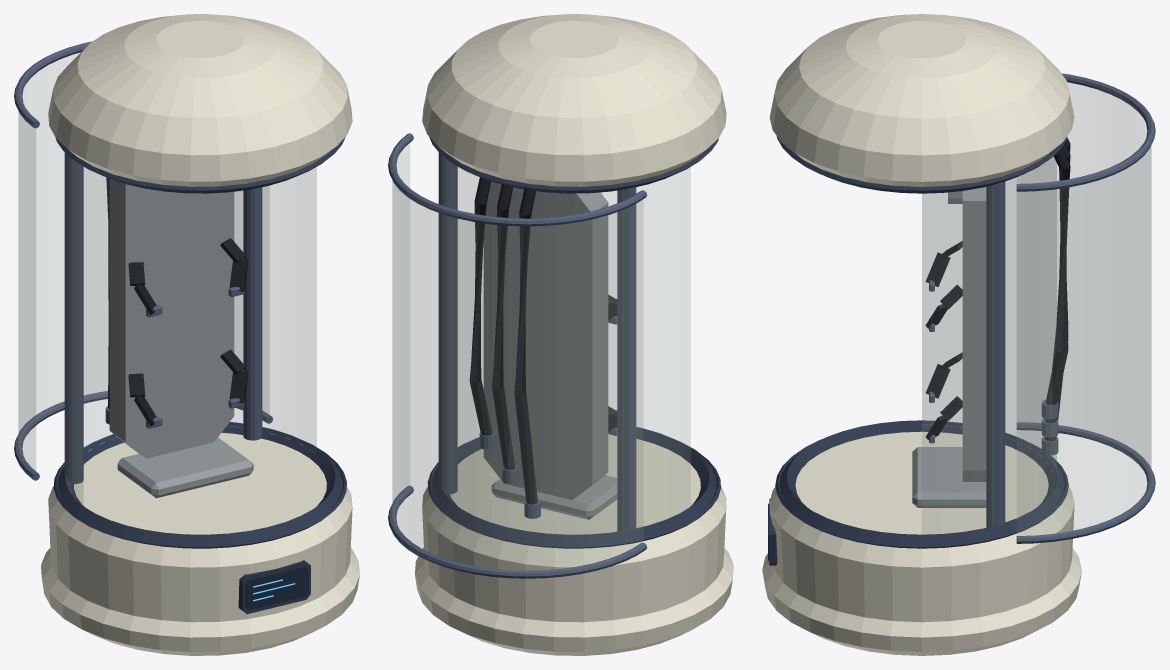
The model's file is bw_regen_pod_open.glb.
3 views of the same model, side by side, from view 1: azimuth 30°, elevation 25°; view 2: azimuth 150°, elevation 25°; view 3: azimuth 270°, elevation 25° (orthographic).
Visible parts, largest first — view 1: crown, fixed_glass, head_pad, buckle, bezel, loose_end, instrument_glass; view 2: fixed_glass, crown, head_pad, buckle, loose_end, bezel; view 3: crown, fixed_glass, buckle, head_pad, bezel, loose_end.
Boxes of the visible parts, <box> form: crown: <box>41,14,359,655</box>; fixed_glass: <box>18,53,316,504</box>; head_pad: <box>109,179,253,498</box>; buckle: <box>14,41,314,505</box>; bezel: <box>53,136,346,614</box>; loose_end: <box>106,177,248,426</box>; instrument_glass: <box>245,566,308,610</box>; fixed_glass: <box>392,144,690,570</box>; crown: <box>415,14,733,655</box>; head_pad: <box>483,181,617,519</box>; buckle: <box>388,133,647,578</box>; loose_end: <box>469,177,617,504</box>; bezel: <box>427,137,720,548</box>; crown: <box>762,14,1081,655</box>; fixed_glass: <box>922,83,1151,535</box>; buckle: <box>922,73,1155,543</box>; head_pad: <box>912,187,986,507</box>; bezel: <box>769,136,1068,565</box>; loose_end: <box>925,138,1070,441</box>.
Size of the model in its own units: 1.3 by 2.5 by 1.6.
